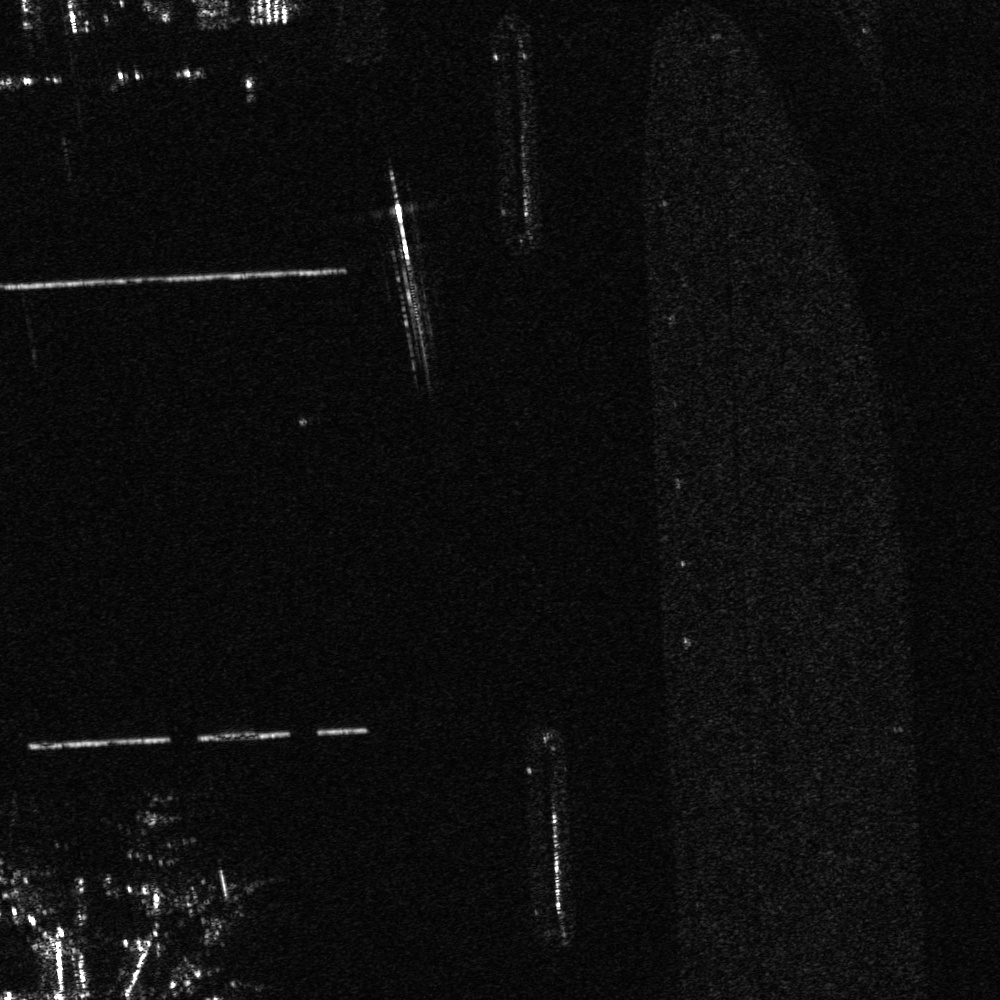A320/321: (104, 788, 204, 869)
